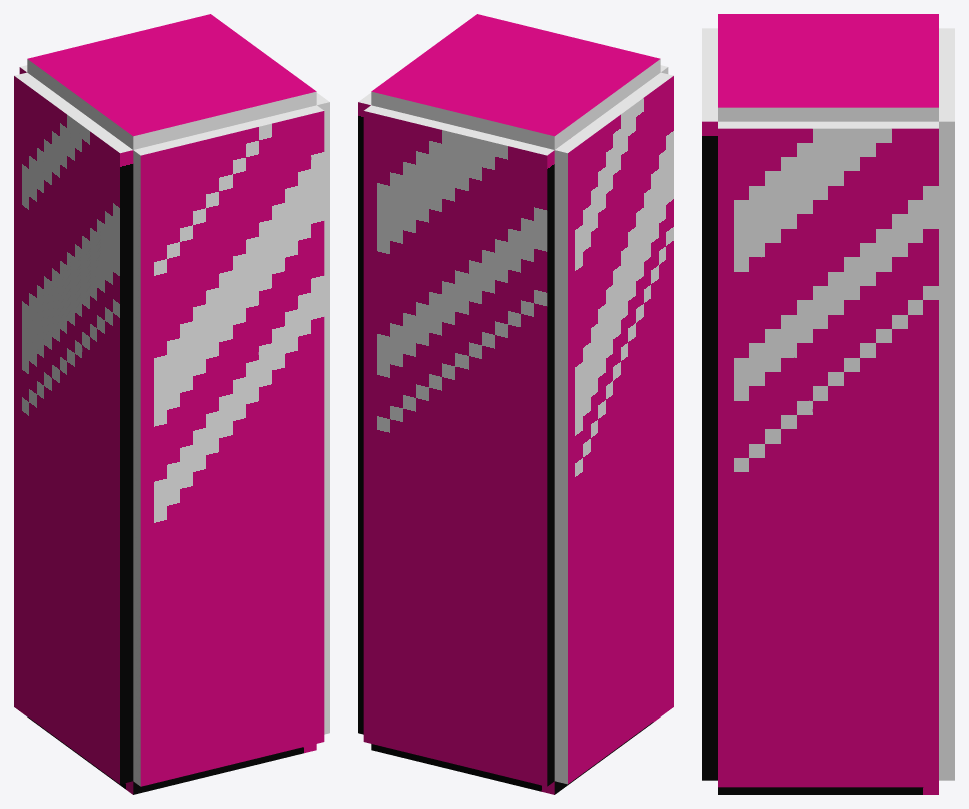
Rendered from cmy_crystal_mao.fezao.glb.
3 renders of one model, left to right at view 1: azimuth 30°, elevation 25°; view 2: azimuth 150°, elevation 25°; view 3: azimuth 270°, elevation 25°, orthographic. The views are drawn at different scales.
Visible parts, largest first — view 1: CMY_CRYSTAL_MAO; view 2: CMY_CRYSTAL_MAO; view 3: CMY_CRYSTAL_MAO.
Part boxes in pixels (box(x1,y1,x2,y2)): CMY_CRYSTAL_MAO: box(14, 14, 329, 794); CMY_CRYSTAL_MAO: box(358, 14, 673, 794); CMY_CRYSTAL_MAO: box(702, 14, 954, 794).
Bounding box in the file's own units: 1 × 3 × 1.
Materials: 1 (1 with a texture image).
